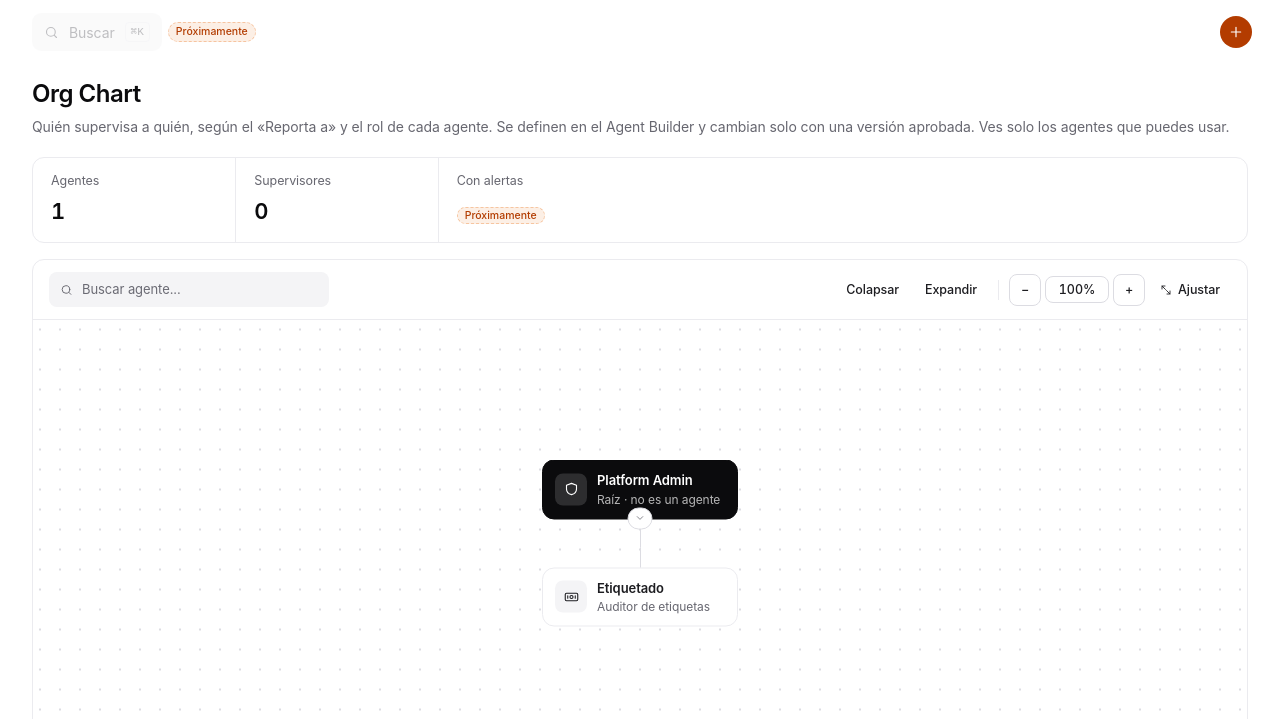
Test: OrgChartPage › has no «Lo usan» list when the agent is only shared with people
This screenshot has width=1280, height=719.
What coordinates should you click on to do the following:
click the button with aria-label "Etiquetado, Auditor de etiquetas"
I would click on:
 (640, 597)
Its box is [543, 568, 737, 626].
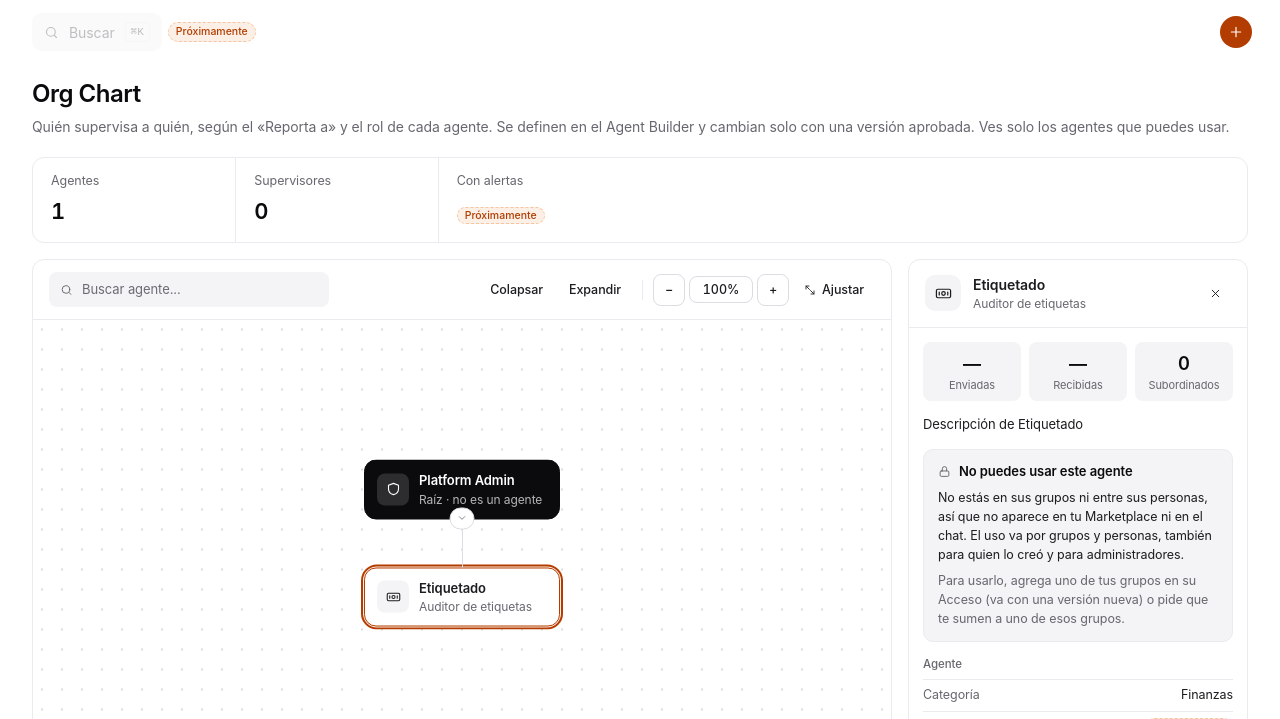
Expected: the element that starts with "No puedes usar este agente" does not show "Lo usan", [923, 449, 1233, 642]
Expected: the element that starts with "No puedes usar este agente" is shown, [959, 463, 1133, 479]
